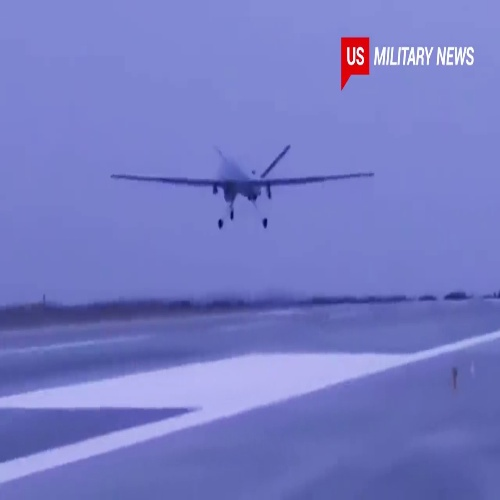uav187: (113, 138, 378, 228)
